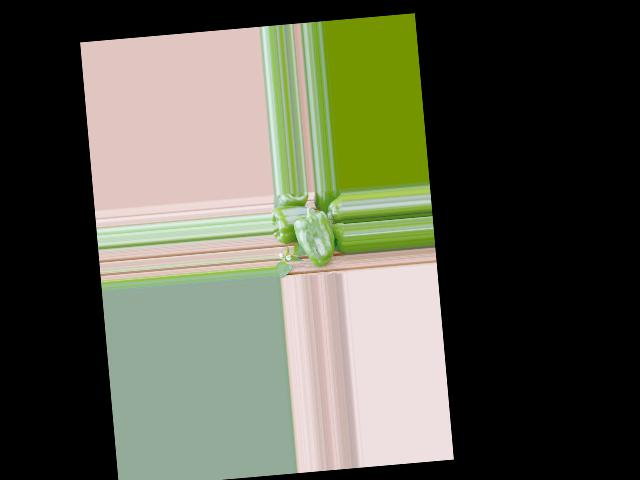bell_pepper: (323, 192, 344, 219)
